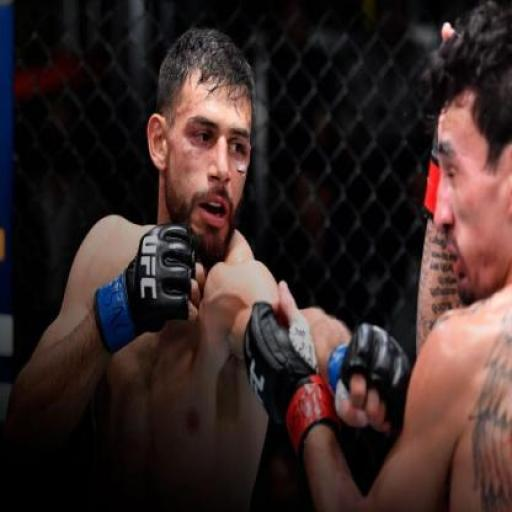Fighting: (21, 0, 508, 504)
